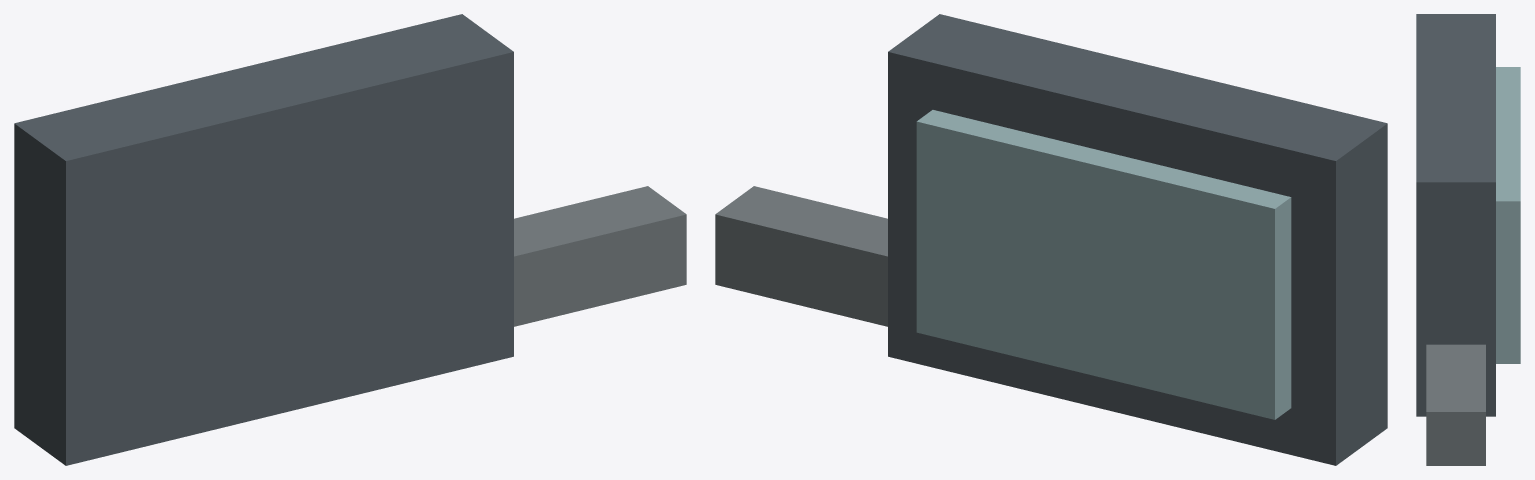
Rendered from car_side_mirror.glb.
3 renders of one model, left to right at view 1: azimuth 30°, elevation 25°; view 2: azimuth 150°, elevation 25°; view 3: azimuth 270°, elevation 25°, orthographic. The views are drawn at different scales.
Parts seen in each view (by area): view 1: body; view 2: body; view 3: body.
Boxes of the visible parts, bbox=[...] form: body: bbox=[14, 14, 686, 465]; body: bbox=[715, 14, 1387, 465]; body: bbox=[1416, 14, 1520, 465].
Bounding box in the file's own units: 0.28 × 0.13 × 0.0525.
